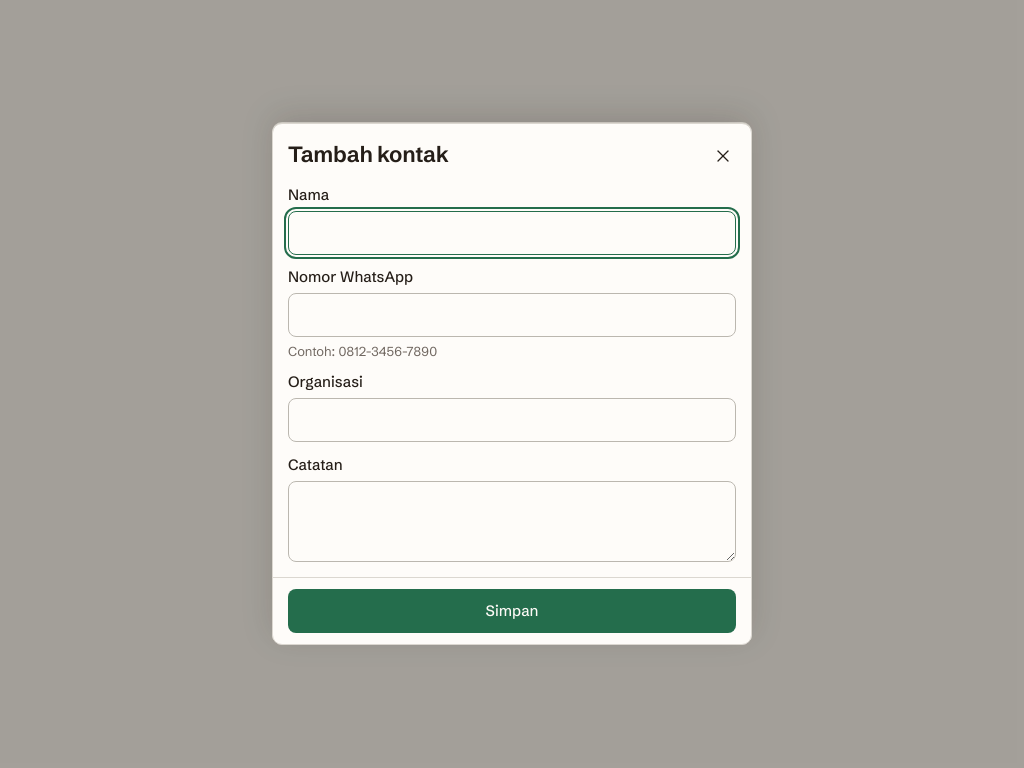
invalid phone shows "Nomor tidak valid" and nothing is saved (Review Focus 3)
In the field labelled "Nama": (512, 233) [288,211,736,255], type "Bu Rina"
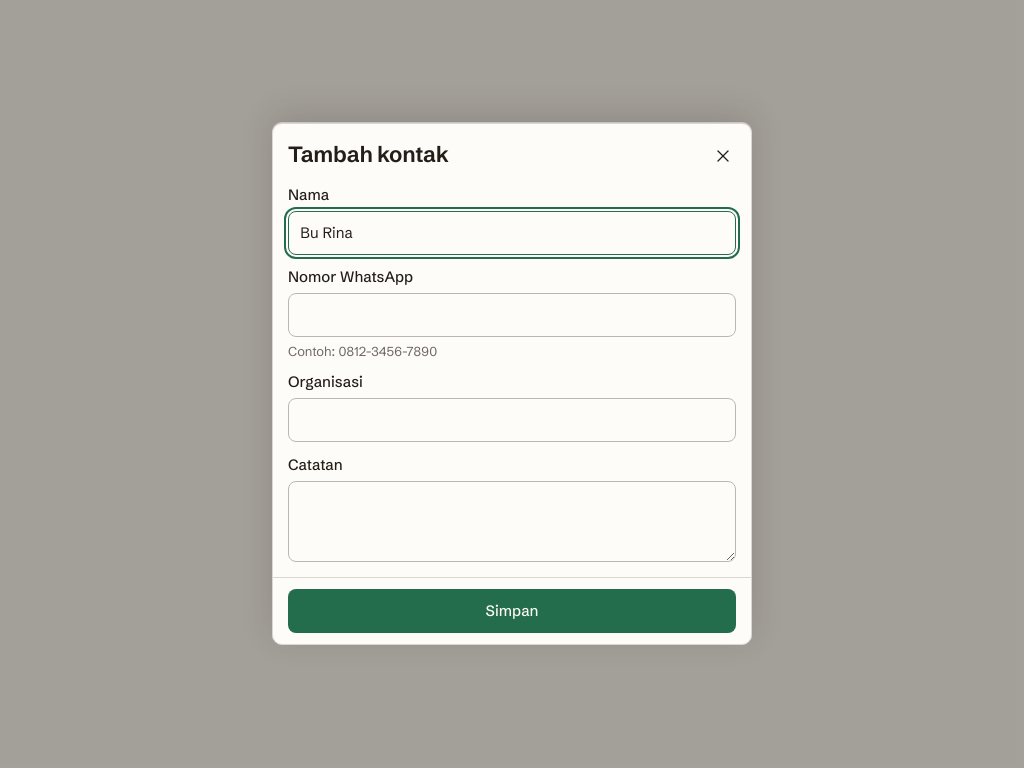
In the field labelled "Nomor WhatsApp": (512, 315) [288,293,736,337], type "08ab1234"
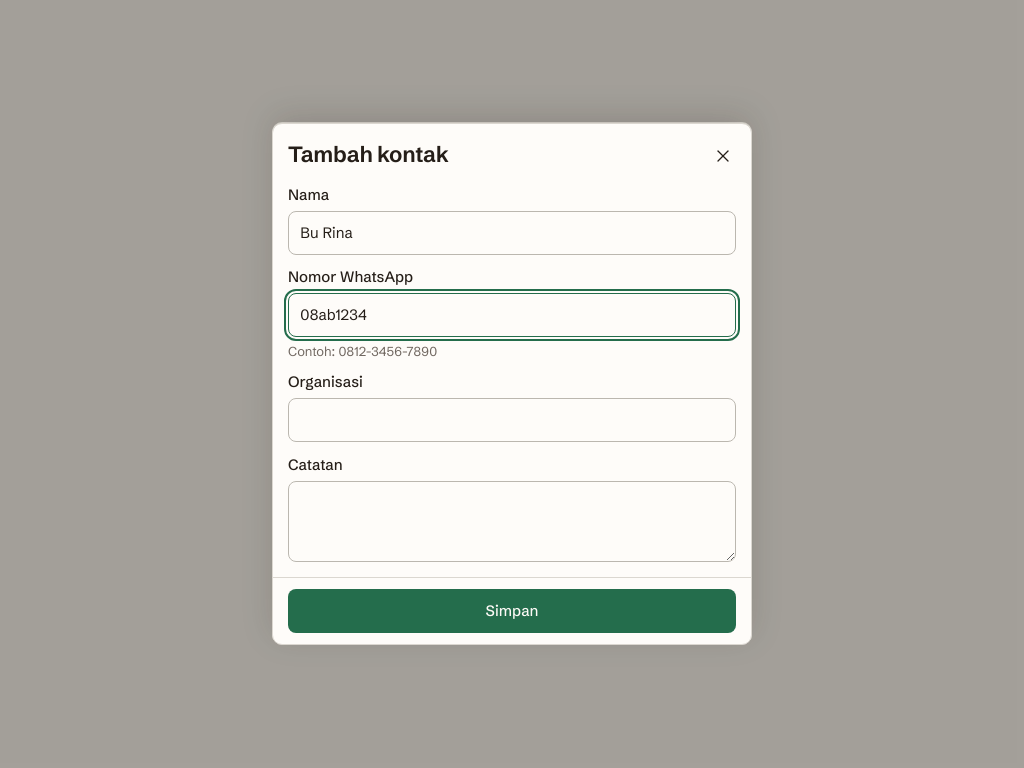
Click the button "Simpan": (512, 611) [288,589,736,633]
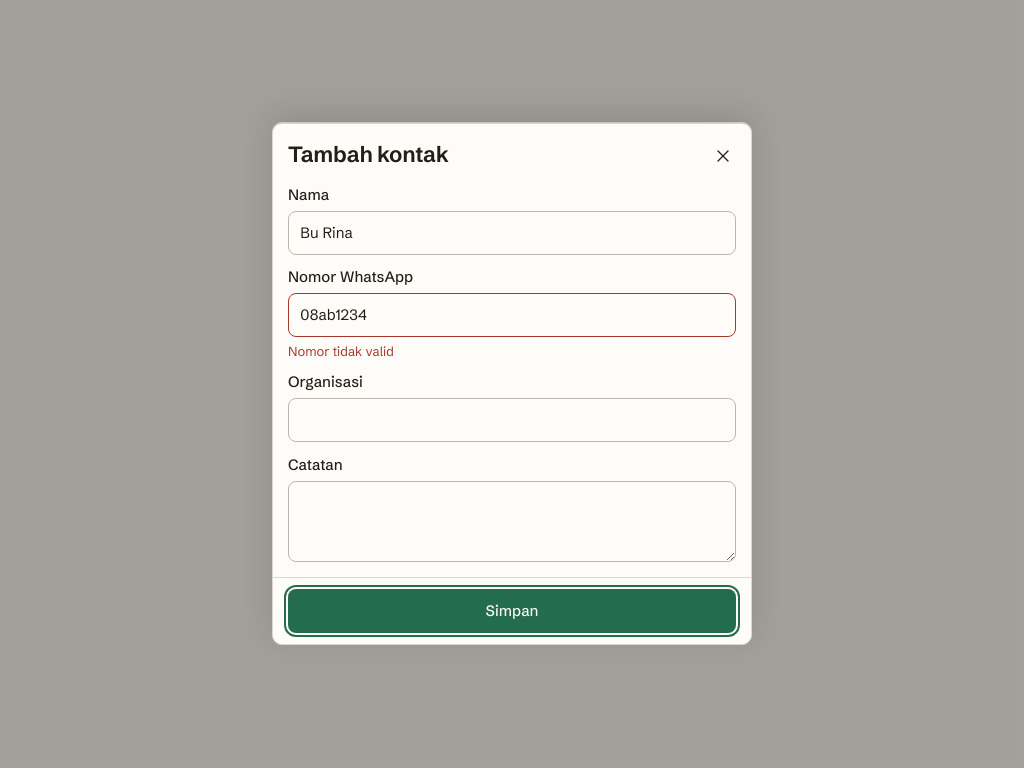
expect the text "Nomor tidak valid" is shown: met, box [288,343,394,359]
